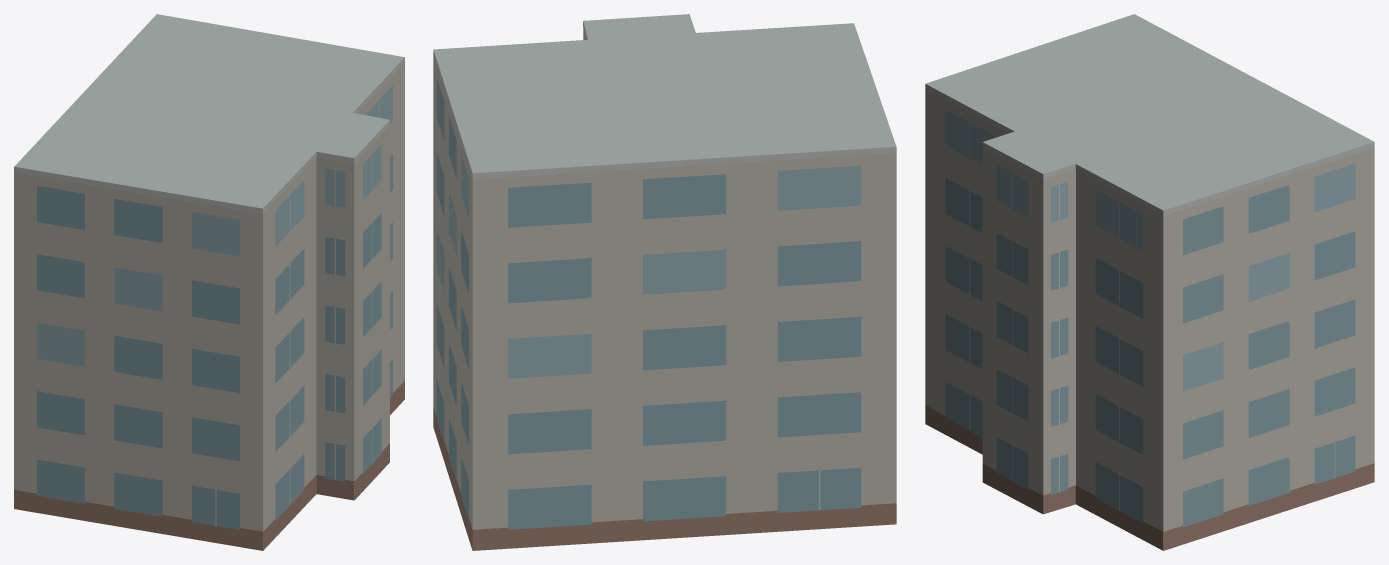
The model's file is survey-upis-32529520.glb.
3 renders of one model, left to right at view 1: azimuth 30°, elevation 25°; view 2: azimuth 150°, elevation 25°; view 3: azimuth 270°, elevation 25°, orthographic. The views are drawn at different scales.
Parts seen in each view (by area): view 1: survey-upis-32529520.tmp; view 2: survey-upis-32529520.tmp; view 3: survey-upis-32529520.tmp.
Part boxes in pixels (x1,y1,x2,y2): survey-upis-32529520.tmp: [14, 14, 404, 550]; survey-upis-32529520.tmp: [433, 14, 896, 550]; survey-upis-32529520.tmp: [925, 14, 1374, 550].
Bounding box in the file's own units: 18.78 × 15.15 × 18.14.
